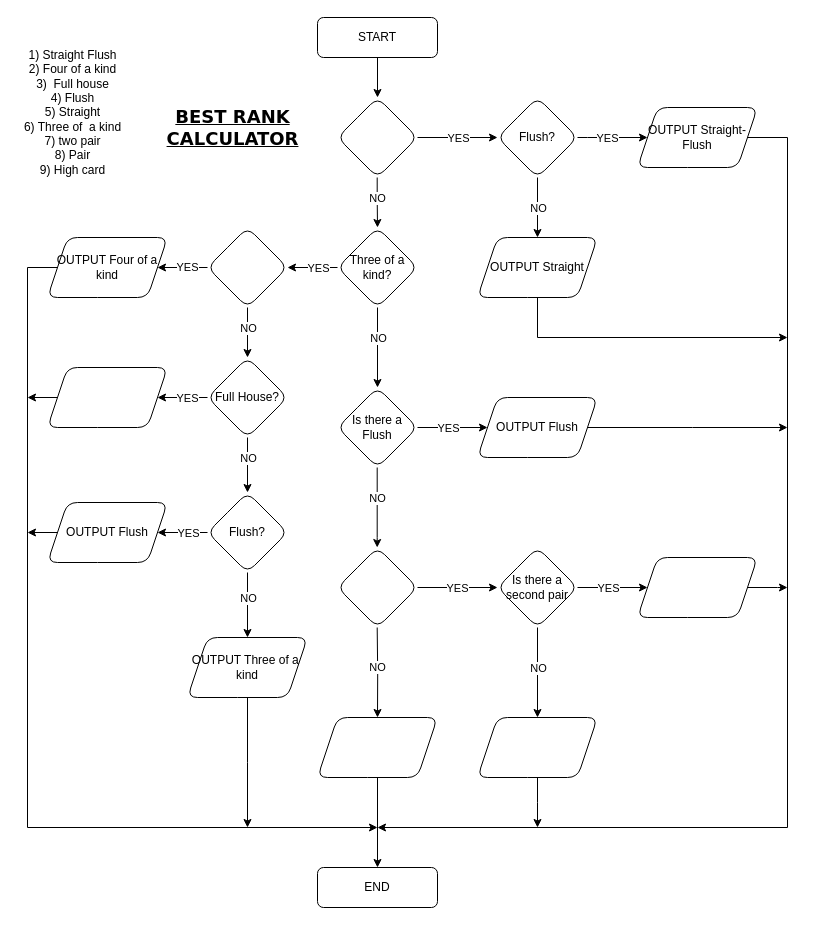
Image size: 813x925. Some labels were removed from this diagram. The shapes that lost their labels are listed below. From the top down, each one's centre as x and y in pixels, then its label:
pixel 377 137: Straight?
pixel 247 267: Four of a kind?
pixel 107 397: OUTPUT FULL HOUSE
pixel 377 587: Is there a pair
pixel 697 587: OUTPUT Two Pair
pixel 377 747: OUTPUT High Card
pixel 537 747: OUTPUT One Pair
